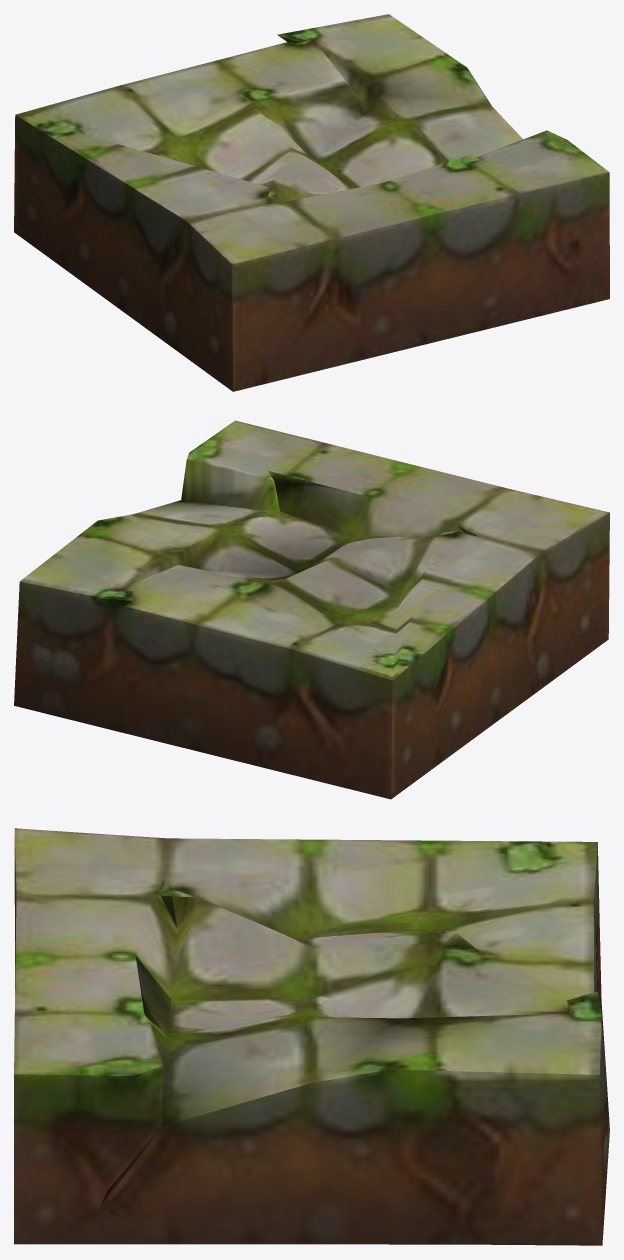
File: b_racines_sol_1_lo.glb
3 renders of one model, top to bottom at view 1: azimuth 30°, elevation 25°; view 2: azimuth 150°, elevation 25°; view 3: azimuth 270°, elevation 25°, orthographic. The views are drawn at different scales.
Visible parts, largest first — view 1: geometry_0; view 2: geometry_0; view 3: geometry_0.
Boxes of the visible parts, x1=… form: geometry_0: x1=14, y1=14, x2=609, y2=391; geometry_0: x1=14, y1=420, x2=609, y2=799; geometry_0: x1=14, y1=828, x2=609, y2=1245.
Bounding box in the file's own units: 0.9933 × 0.3289 × 0.9833.
1 material, 1 textured.
